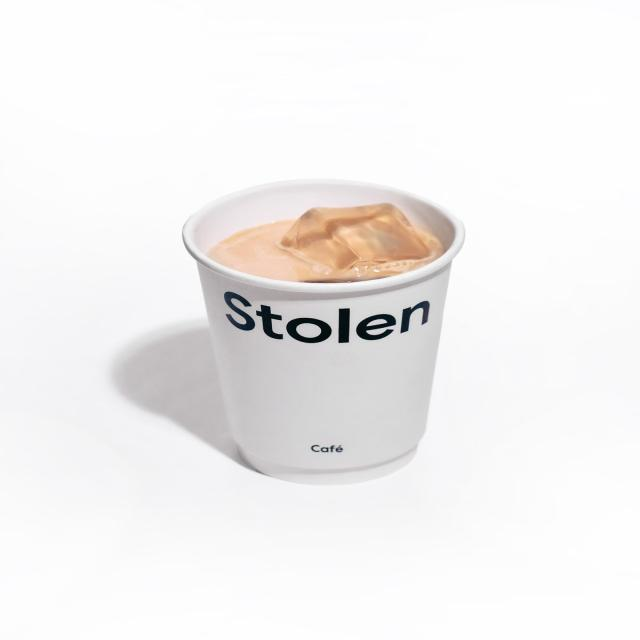paper cup: (181, 178, 467, 486)
